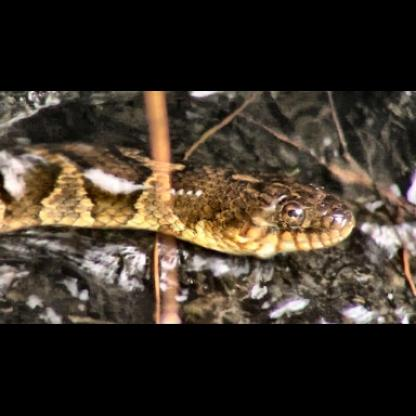Snake: (0, 135, 361, 261)
